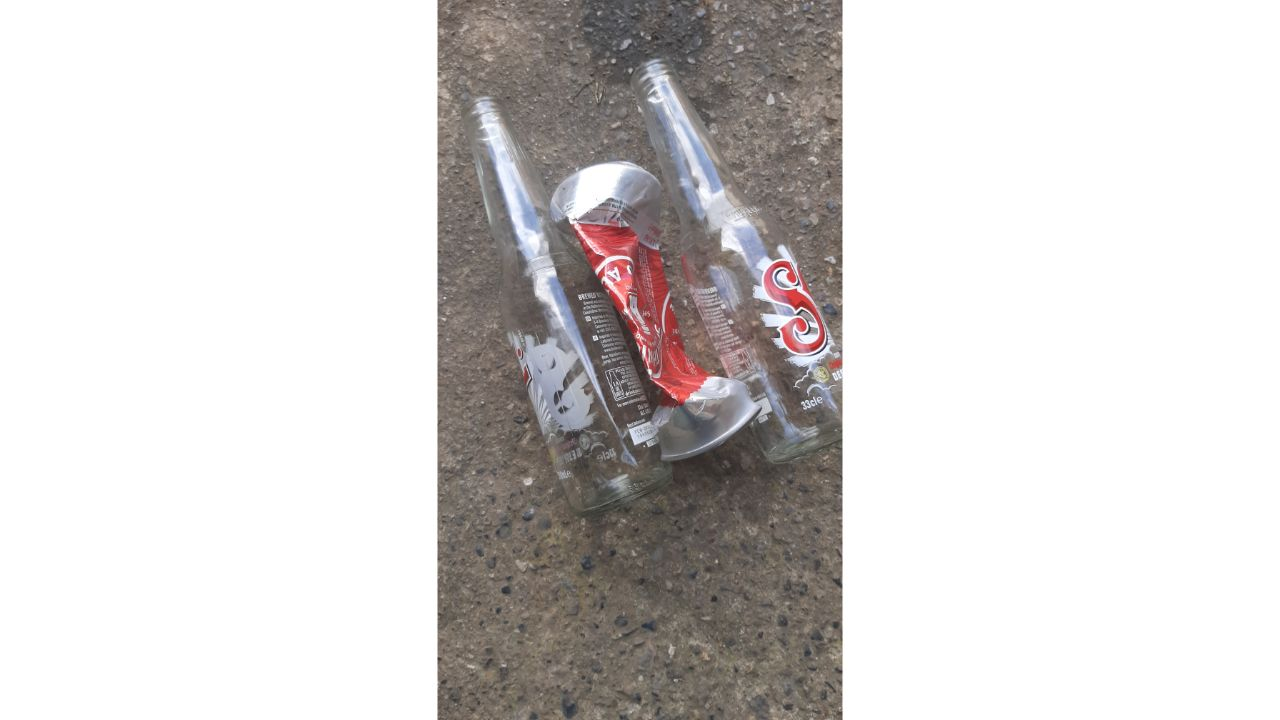Can: (543, 154, 770, 474)
